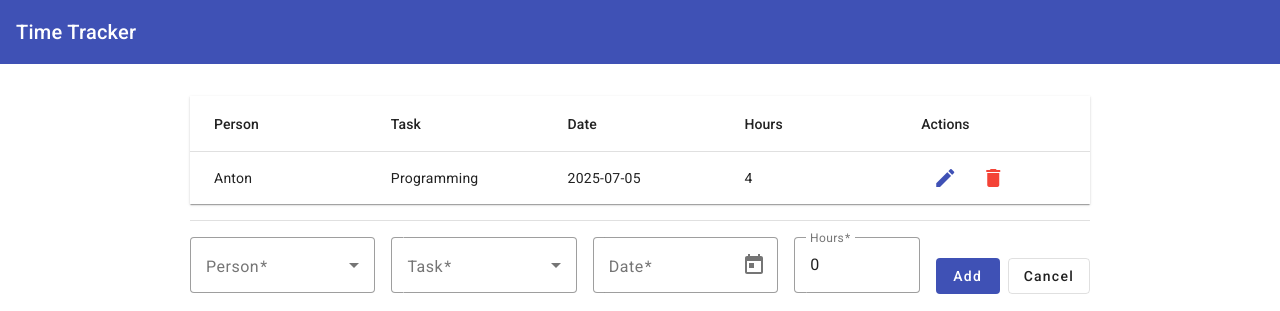
Time Tracker App › should cancel editing
This screenshot has width=1280, height=311.
Click the button named "Edit entry" at [945, 178], box [921,154,969,202]
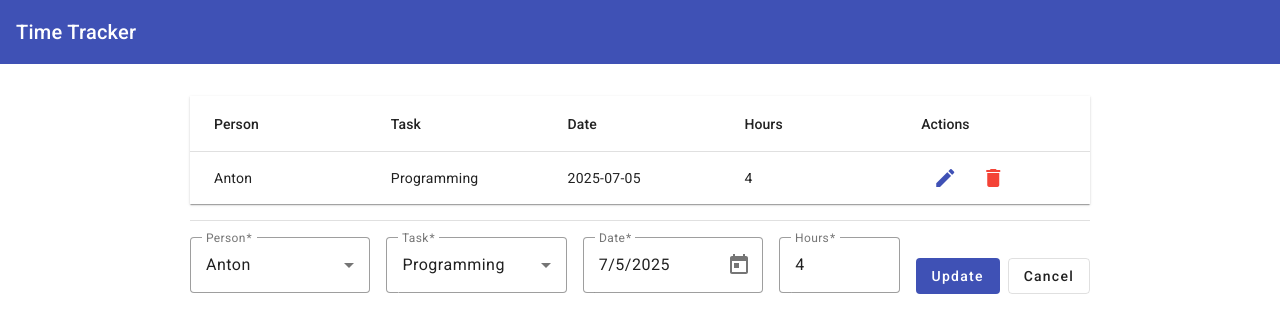
Click the button "Cancel" at [1049, 276], box [1008,258,1090,294]
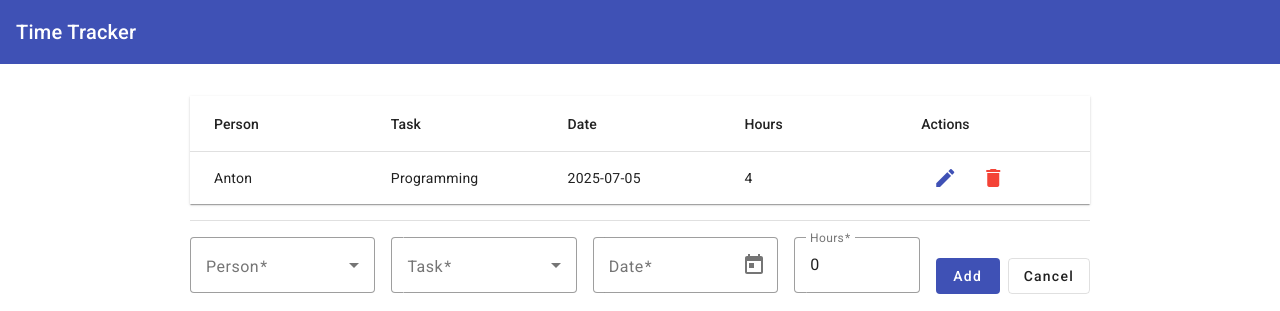
Expected: the button "Add" is shown, [936,258,1000,294]
